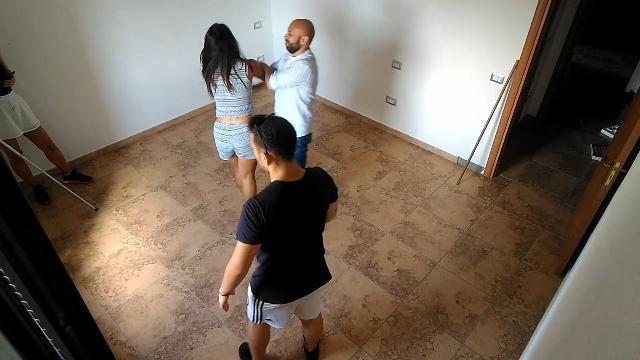non-violence: (208, 116, 342, 360), (0, 31, 92, 194)
violence: (198, 19, 328, 226)
